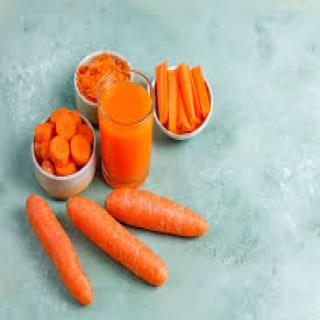Wortel: (20, 175, 218, 312), (23, 100, 101, 198), (151, 51, 221, 150)
